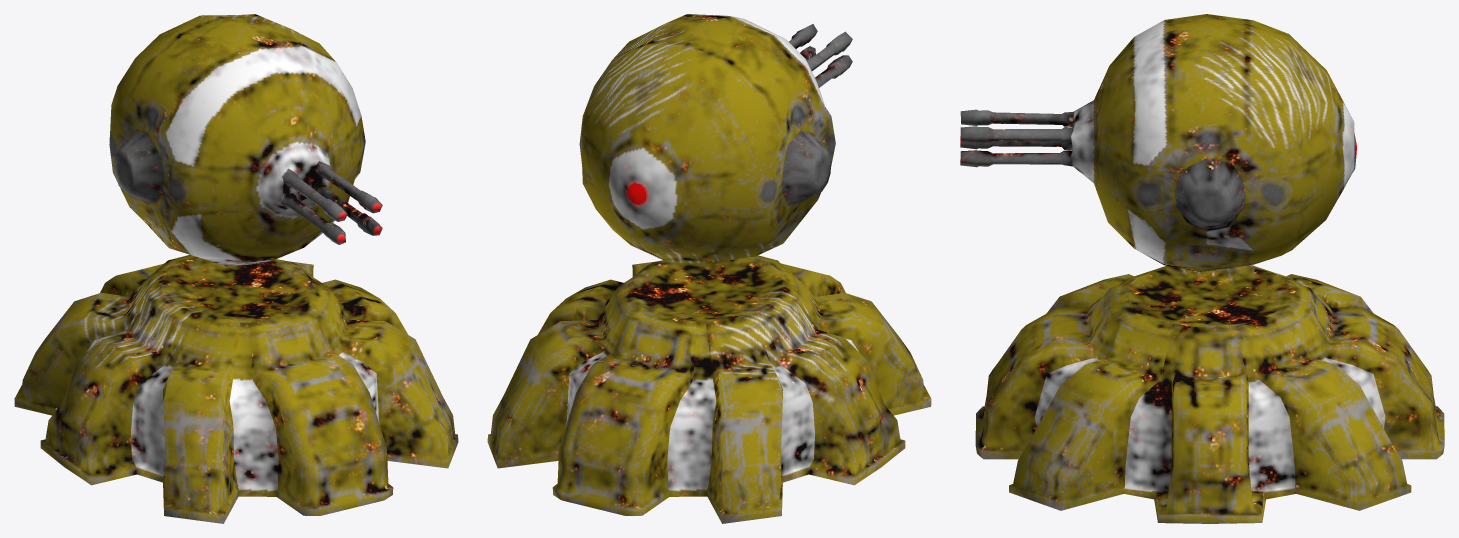
Rendered from TurretUV3 1.fbx.
3 renders of one model, left to right at view 1: azimuth 30°, elevation 25°; view 2: azimuth 150°, elevation 25°; view 3: azimuth 270°, elevation 25°, orthographic. The views are drawn at different scales.
Parts seen in each view (by area): view 1: polySurface2, polySurface1; view 2: polySurface2, polySurface1; view 3: polySurface2, polySurface1.
Boxes of the visible parts, <box> form: polySurface2: <box>14,255,458,523</box>; polySurface1: <box>109,14,382,266</box>; polySurface2: <box>487,255,931,523</box>; polySurface1: <box>579,14,852,263</box>; polySurface2: <box>975,265,1444,523</box>; polySurface1: <box>960,14,1356,272</box>.
Bounding box in the file's own units: 73.4 × 80.52 × 86.1.
